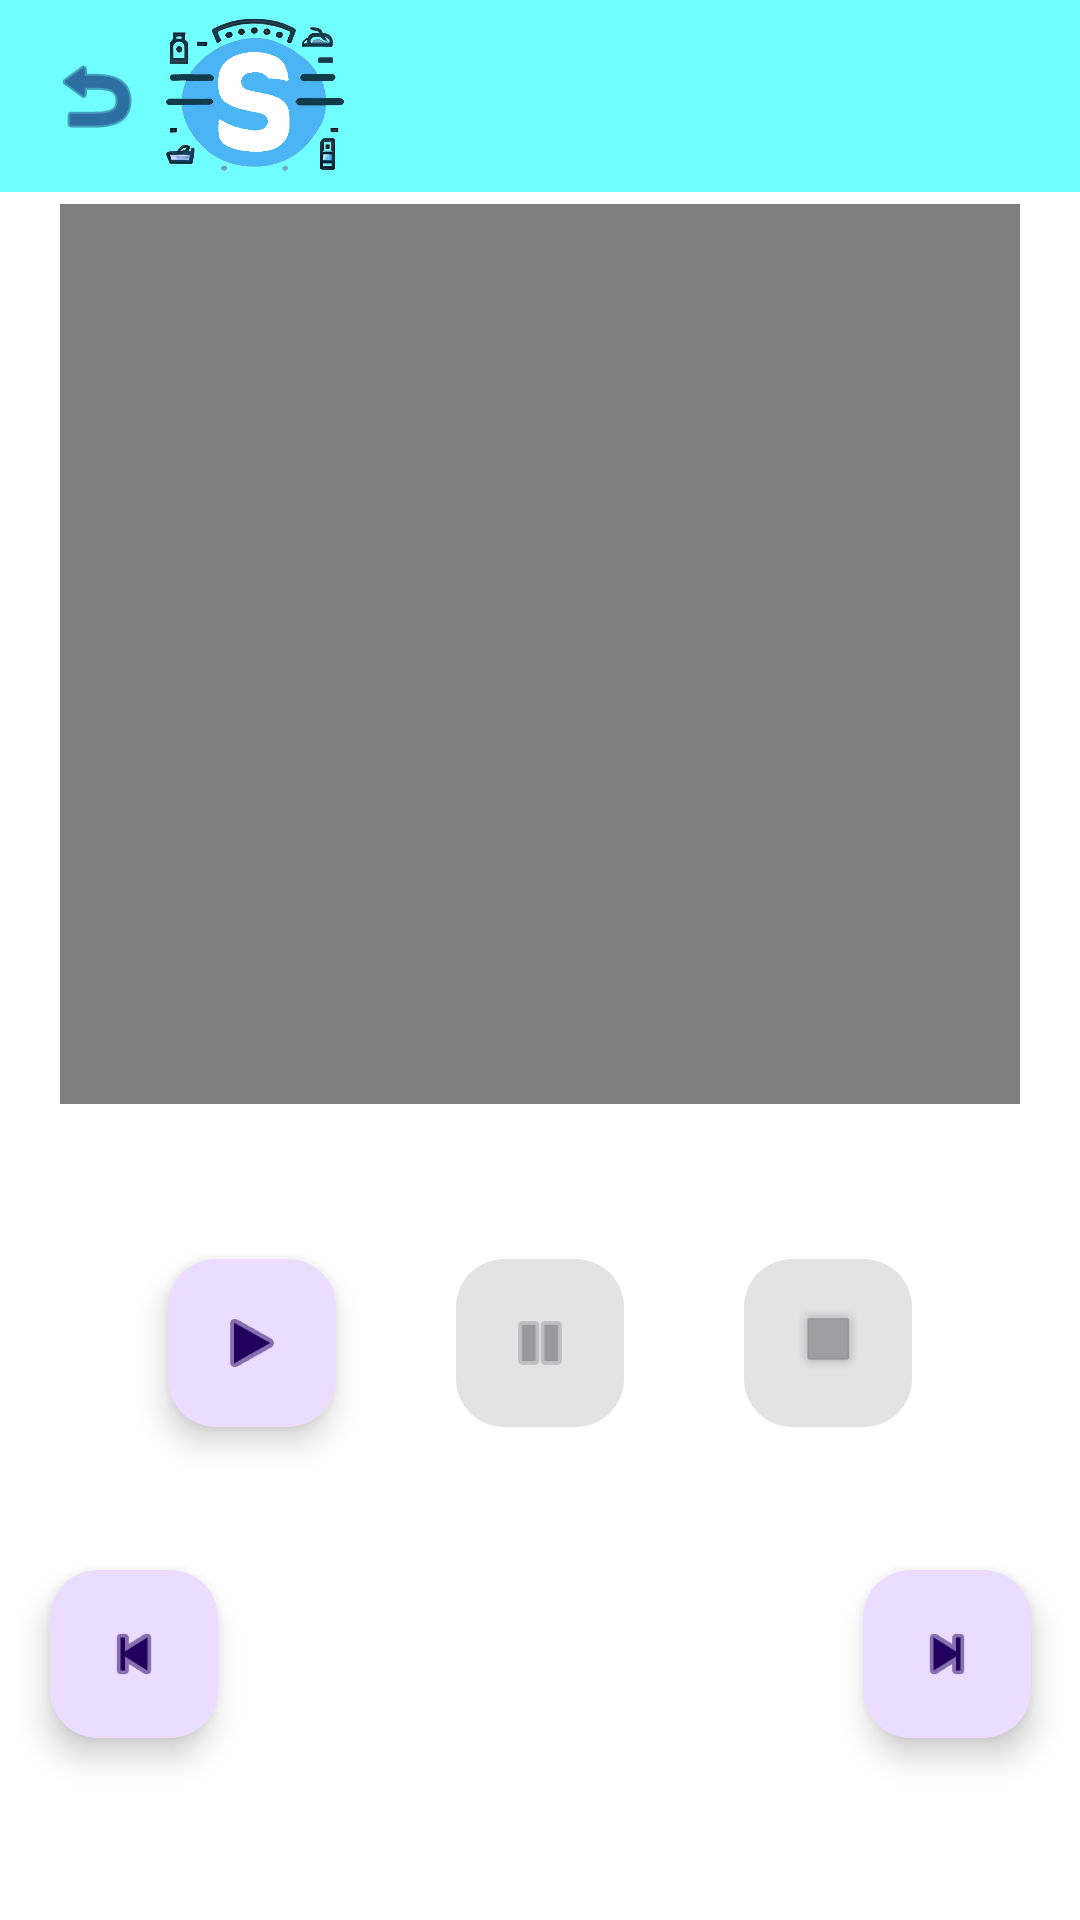

Icons on this 1080px×1920px Android screen, each with its box as [x1,y1,x2,y2]:
next: [863,1570,1031,1738]
pause: [456,1259,624,1427]
play: [168,1259,336,1427]
previous: [50,1570,218,1738]
revert: [63,65,132,128]
